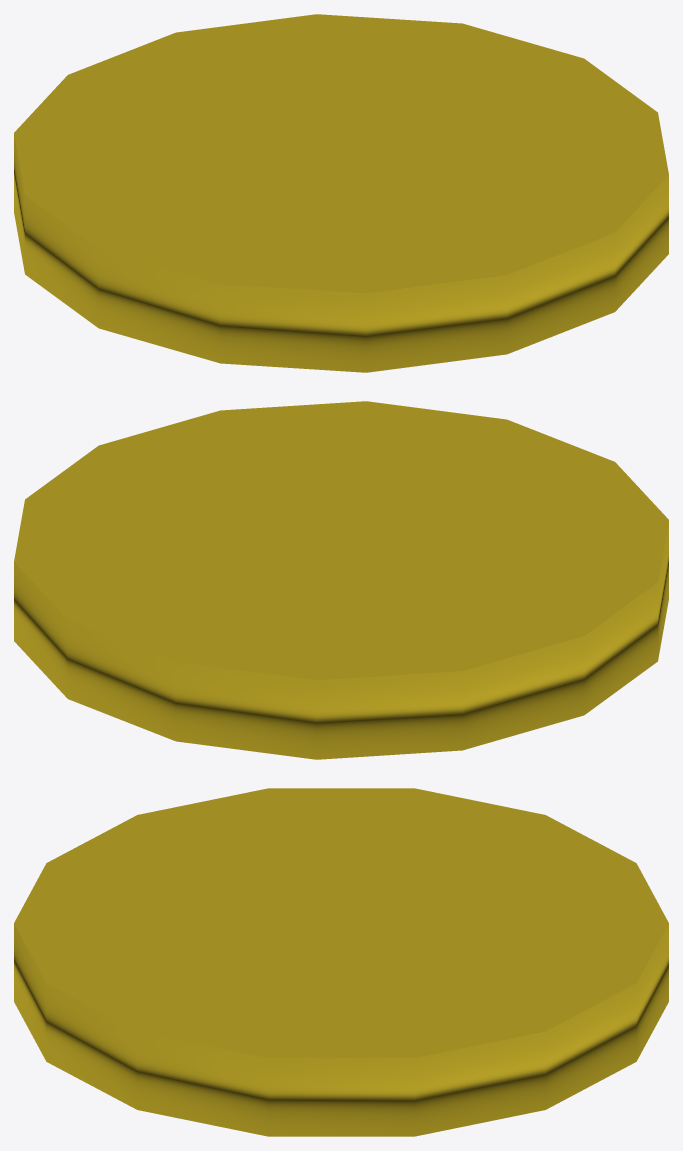
File: CoinBoy-Ep4.fbx
3 views of the same model, one above another, from view 1: azimuth 30°, elevation 25°; view 2: azimuth 150°, elevation 25°; view 3: azimuth 270°, elevation 25° (orthographic).
Parts seen in each view (by area): view 1: CoinBoy; view 2: CoinBoy; view 3: CoinBoy.
Boxes of the visible parts, box(x1,y1,x2,y2) form: CoinBoy: box(14, 14, 668, 372); CoinBoy: box(14, 401, 668, 759); CoinBoy: box(14, 788, 668, 1136).
Size of the model in its own units: 58.8 by 7.98 by 60.31.
